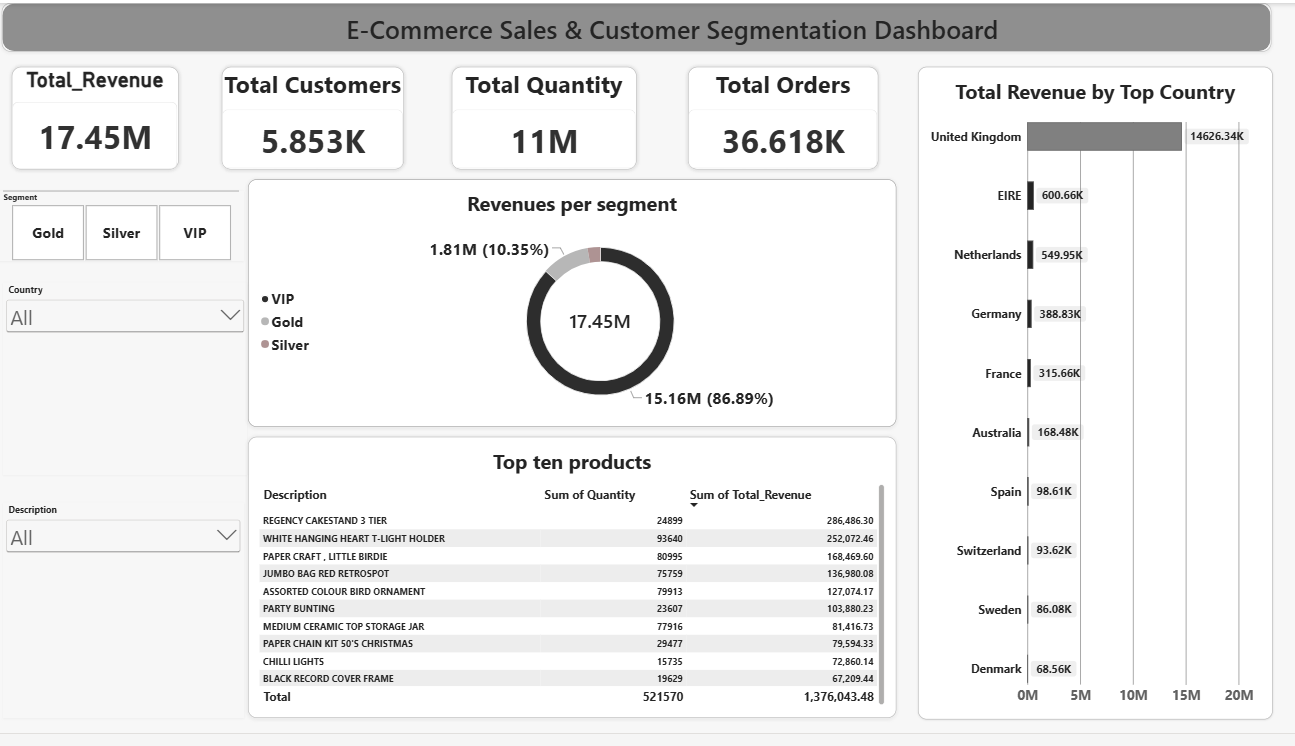

What the dashboard file says about the page in this screenshot:
{"tool":"powerbi","page":{"name":"Page 1","canvas":[1920,1080],"ordinal":0},"visuals":[{"type":"cardVisual","title":"Total_Revenue","fields":{"Data":["Sum(clean_retail.Total_Revenue)"]},"box":[19.9,94.1,247,152.3],"z":0},{"type":"cardVisual","title":"Total Orders","fields":{"Data":["Count(clean_retail.Invoice)"]},"box":[1020.6,94.1,282,152.3],"z":1000},{"type":"cardVisual","title":"Total Customers","fields":{"Data":["Count(clean_retail.Customer_ID)"]},"box":[331.2,94.1,269.6,152.3],"z":2000},{"type":"cardVisual","title":"Total Quantity","fields":{"Data":["Sum(clean_retail.Quantity)"]},"box":[671.4,94.1,273.8,152.3],"z":3000},{"type":"clusteredBarChart","title":"Total Revenue by Top Country","fields":{"Category":["clean_retail.Country"],"Y":["Sum(clean_retail.Total_Revenue)"]},"box":[1360.9,94.1,524.9,965.4],"z":4000},{"type":"tableEx","title":"Top ten products","fields":{"Values":["clean_retail.Description","Sum(clean_retail.Quantity)","Sum(clean_retail.Total_Revenue)"]},"box":[369.2,642.4,959.2,415.8],"z":5000},{"type":"donutChart","title":"Revenues per segment","fields":{"Category":["customer_segments.Segment"],"Y":["Sum(clean_retail.Total_Revenue)"]},"box":[369.2,260.6,959.2,366.4],"z":6000},{"type":"slicer","title":"Segment","fields":{"Values":["customer_segments.Segment"]},"box":[0,276.9,363.7,105],"z":7000},{"type":"slicer","fields":{"Values":["clean_retail.Country"]},"box":[7.2,414.4,361.9,284.1],"z":8000},{"type":"slicer","fields":{"Values":["clean_retail.Description"]},"box":[7.2,740.2,356.5,318.5],"z":9000},{"type":"shape","box":[5.4,0,1878.4,72.4],"z":10000},{"type":"textbox","box":[401.7,12.7,1192.6,56.1],"z":11000}]}

Visuals, with their boxes in screenshot pixels (x1, y1, x2, y2), scaled from the page's 1920x1080 canvas onto the 1295x746 screenshot:
"Total_Revenue" cardVisual: 13/65/180/170
"Total Orders" cardVisual: 688/65/879/170
"Total Customers" cardVisual: 223/65/405/170
"Total Quantity" cardVisual: 453/65/638/170
"Total Revenue by Top Country" clusteredBarChart: 918/65/1272/732
"Top ten products" tableEx: 249/444/896/731
"Revenues per segment" donutChart: 249/180/896/433
"Segment" slicer: 0/191/245/264
slicer - clean_retail.Country: 5/286/249/482
slicer - clean_retail.Description: 5/511/245/731
shape: 4/0/1271/50
textbox: 271/9/1075/48
